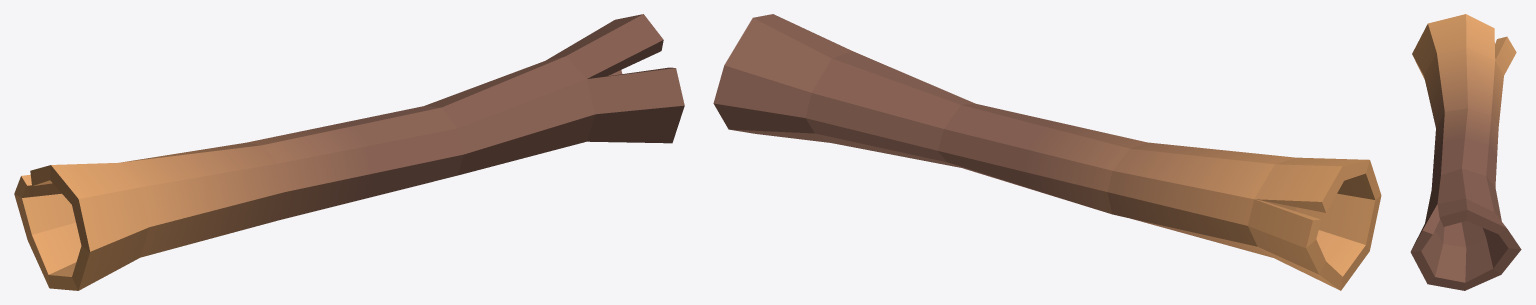
File: aaa.obj
3 views of the same model, side by side, from view 1: azimuth 30°, elevation 25°; view 2: azimuth 150°, elevation 25°; view 3: azimuth 270°, elevation 25° (orthographic). The views are drawn at different scales.
Visible parts, largest first — view 1: Cylinder.024_Cylinder.015; view 2: Cylinder.024_Cylinder.015; view 3: Cylinder.024_Cylinder.015.
Part boxes in pixels (left/top/right/bottom): Cylinder.024_Cylinder.015: left=14, top=14, right=684, bottom=290; Cylinder.024_Cylinder.015: left=713, top=14, right=1381, bottom=290; Cylinder.024_Cylinder.015: left=1410, top=14, right=1521, bottom=290.
Bounding box in the file's own units: 9.1 × 1.9 × 2.13.
